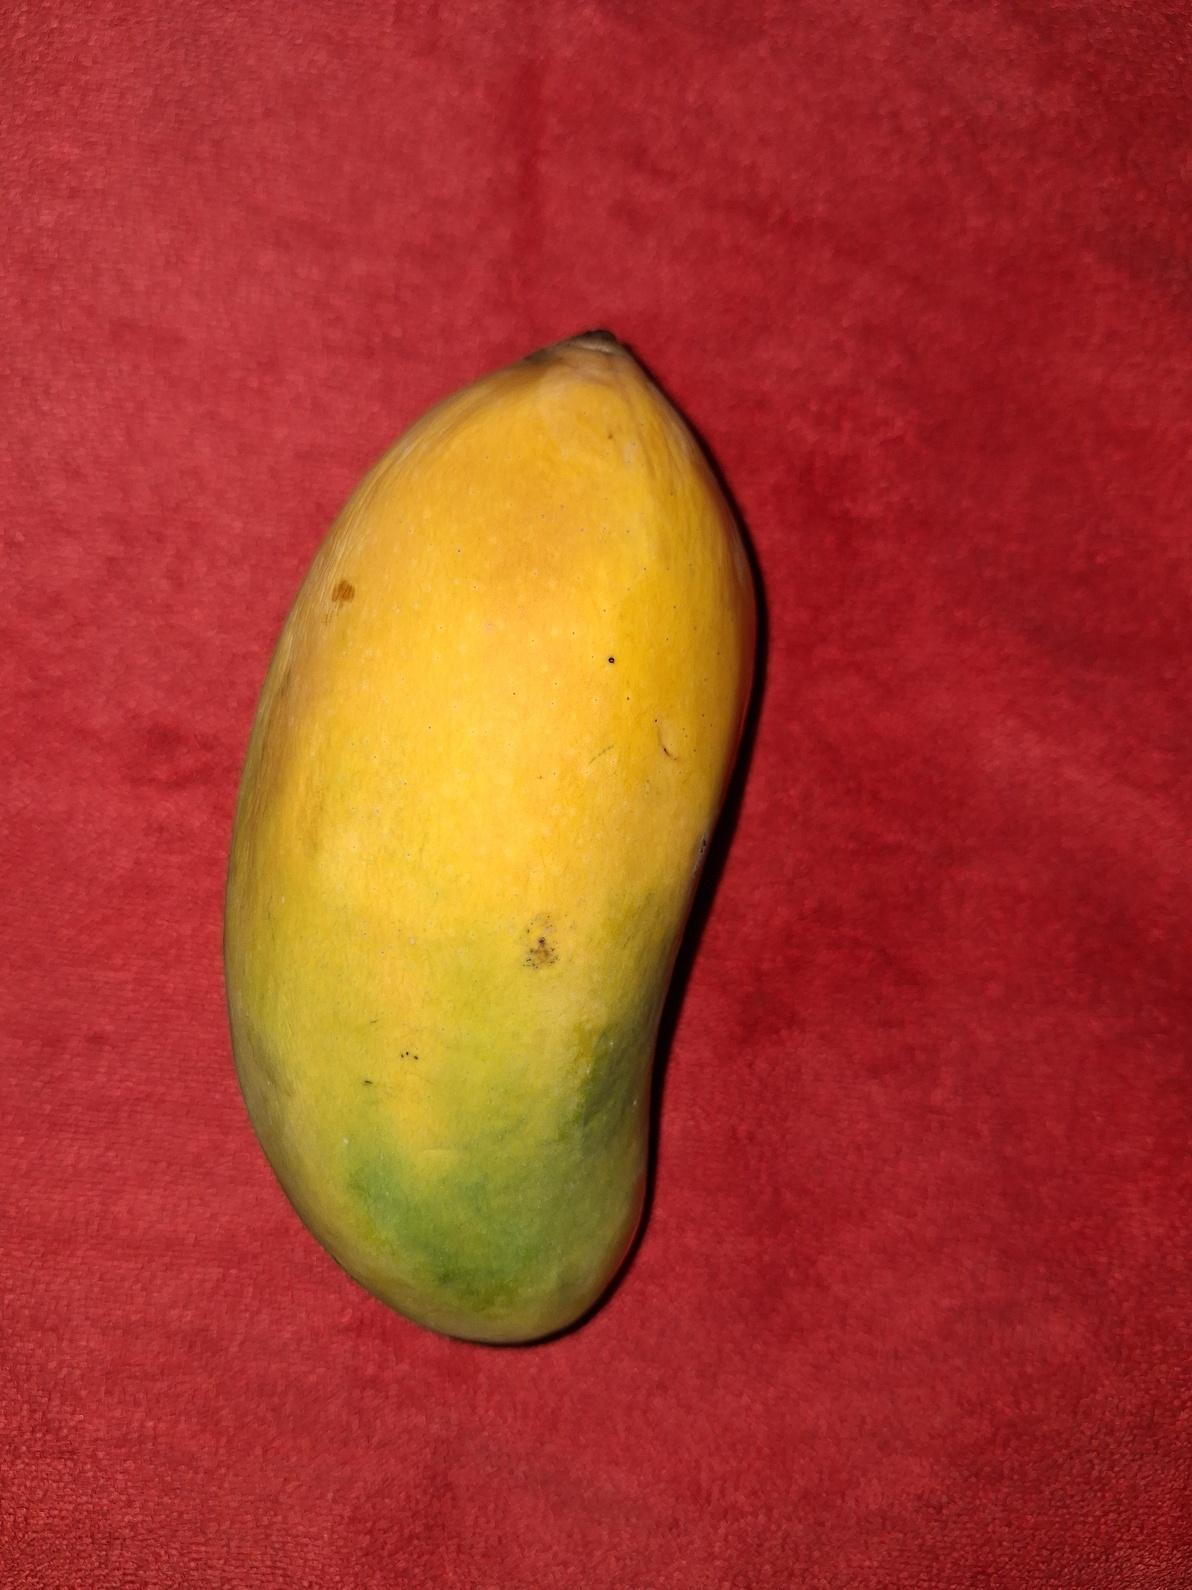mango: (222, 326, 758, 1345)
